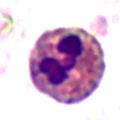monocyte: (26, 26, 105, 105)
